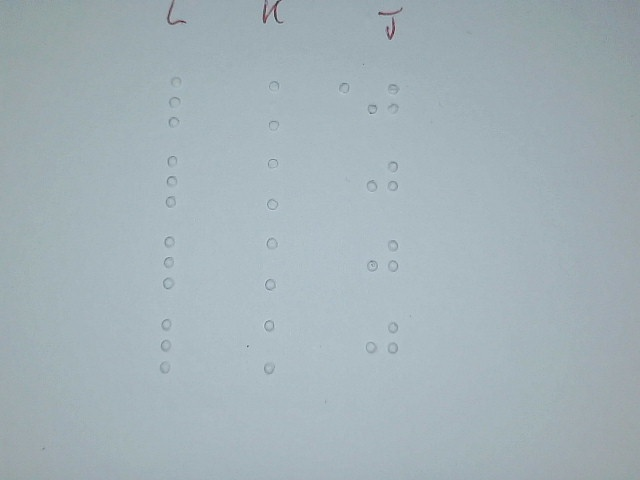J: (366, 74, 401, 130), (365, 154, 400, 210), (365, 231, 400, 287), (364, 313, 399, 369)
K: (260, 77, 300, 133), (259, 156, 299, 212), (258, 235, 298, 291), (256, 319, 296, 375)
L: (161, 74, 201, 130), (158, 154, 198, 210), (155, 235, 195, 291), (152, 317, 192, 373)
